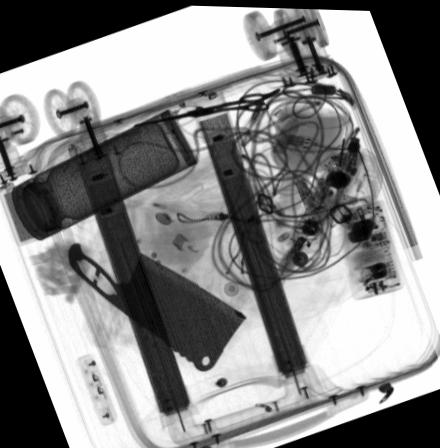Knife: (68, 241, 248, 370)
Powerbank: (0, 176, 62, 247)
Scissors: (129, 85, 282, 131)
